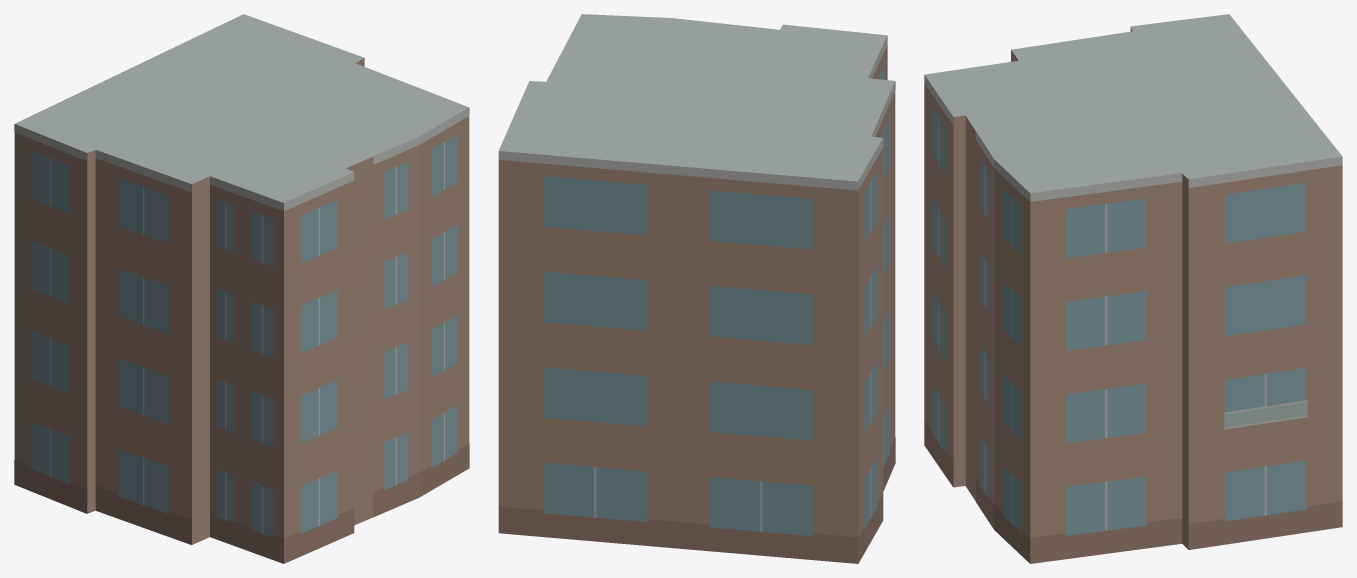
The model's file is survey-upis-32892381.glb.
The picture shows the model from 3 angles, left to right: view 1: azimuth 30°, elevation 25°; view 2: azimuth 150°, elevation 25°; view 3: azimuth 270°, elevation 25°; orthographic projection. The views are drawn at different scales.
Visible parts, largest first — view 1: survey-upis-32892381.tmp; view 2: survey-upis-32892381.tmp; view 3: survey-upis-32892381.tmp.
Part boxes in pixels (x1,y1,x2,y2): survey-upis-32892381.tmp: [14, 14, 469, 563]; survey-upis-32892381.tmp: [498, 14, 895, 563]; survey-upis-32892381.tmp: [924, 14, 1342, 563].
Size of the model in its own units: 10.91 by 10.5 by 10.75.
